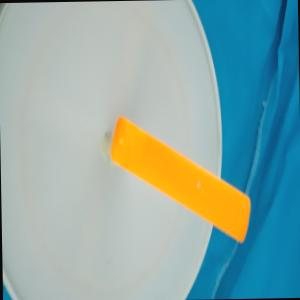serrote: (110, 110, 252, 246)
